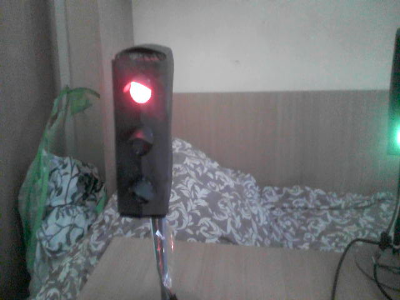trafficlight_red: (115, 54, 166, 214)
